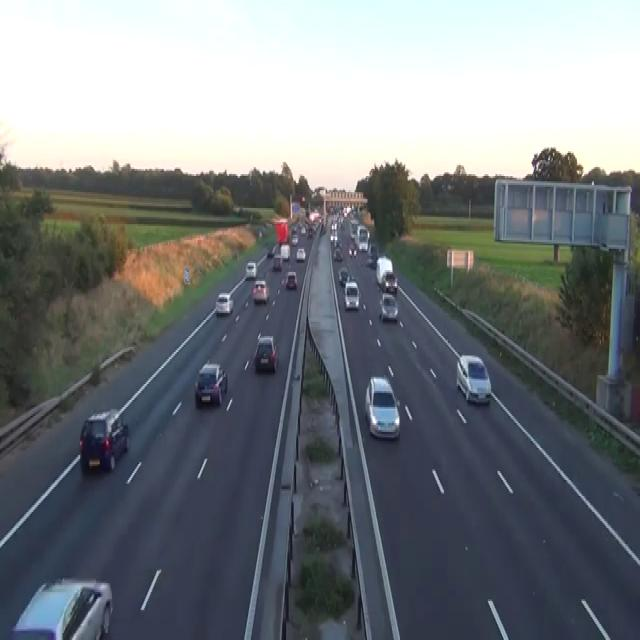Car: (9, 576, 113, 638), (79, 407, 129, 471), (364, 375, 400, 439), (455, 354, 491, 404), (194, 361, 227, 405), (254, 334, 279, 372), (379, 293, 398, 322), (375, 256, 393, 284), (343, 281, 360, 309), (215, 292, 233, 314), (252, 279, 269, 302), (382, 270, 397, 294), (365, 244, 377, 266), (285, 270, 297, 288), (245, 261, 256, 279), (338, 266, 349, 284), (280, 242, 290, 260), (272, 254, 282, 270), (365, 252, 376, 266), (309, 210, 321, 222), (333, 247, 343, 260), (296, 247, 305, 261), (267, 244, 276, 258), (348, 244, 357, 258), (299, 222, 306, 235), (291, 233, 298, 245), (307, 226, 314, 238), (330, 233, 337, 243), (330, 221, 337, 231), (271, 244, 278, 254), (258, 228, 262, 236)
Truck: (274, 218, 289, 244)
